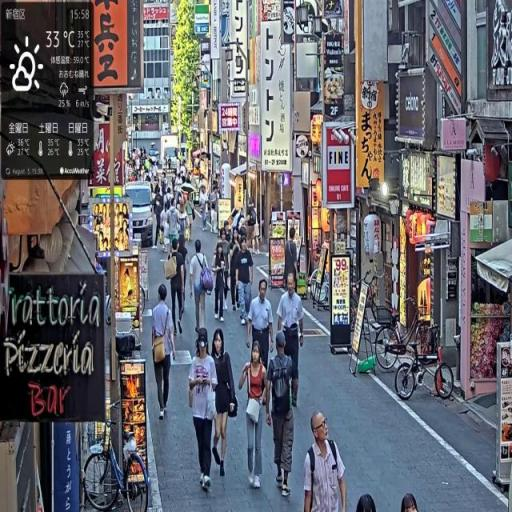person: (188, 326, 221, 499), (268, 330, 300, 498), (237, 342, 272, 493), (303, 410, 348, 512), (210, 330, 239, 479), (277, 271, 306, 407), (153, 282, 178, 425), (248, 279, 275, 374), (190, 241, 214, 336), (165, 240, 187, 337), (237, 238, 255, 331), (213, 239, 229, 322), (230, 236, 242, 314)
